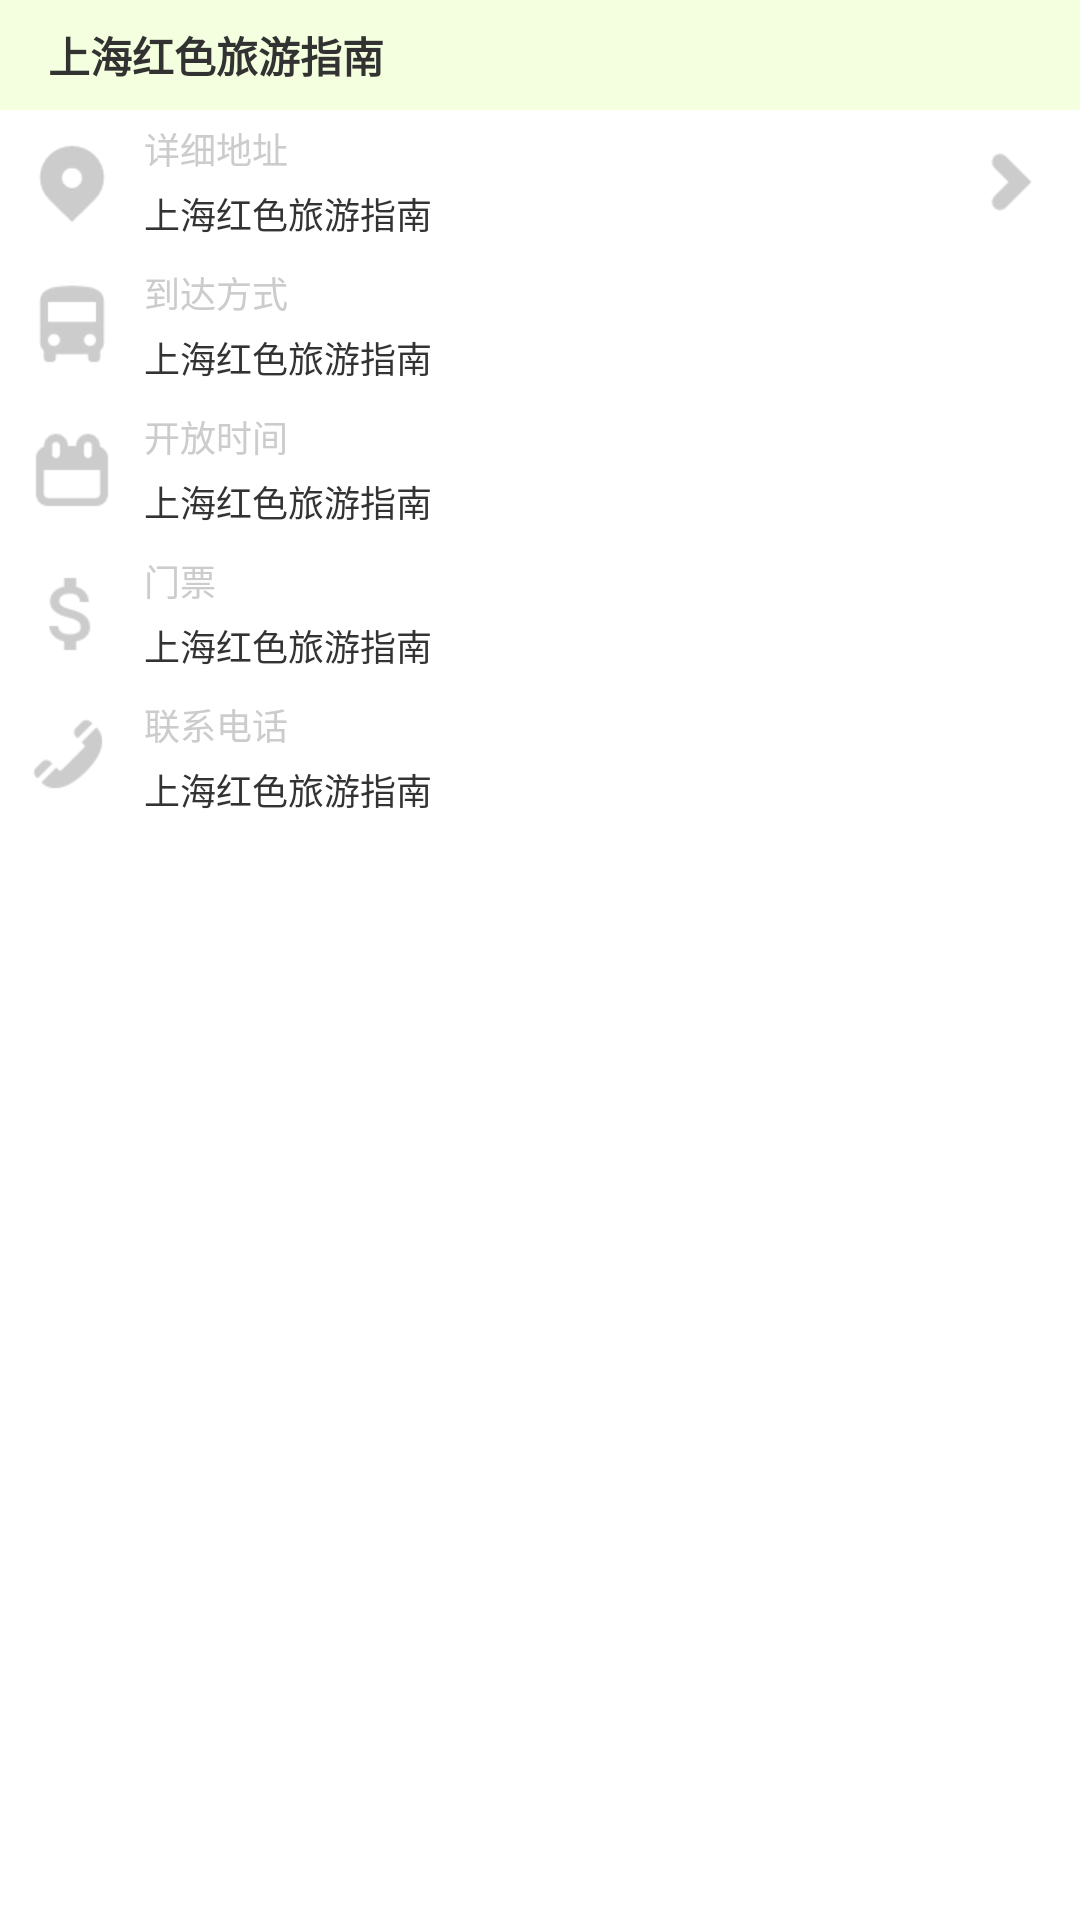

Screen size 1080×1920. Icon name, then its box in pixels as Rect(x1, y1, x2, y2):
address: Rect(40, 146, 104, 221)
right: Rect(992, 154, 1031, 210)
tel: Rect(34, 720, 102, 788)
ticket: Rect(49, 578, 90, 650)
time: Rect(36, 434, 108, 506)
traffic: Rect(40, 286, 104, 362)
